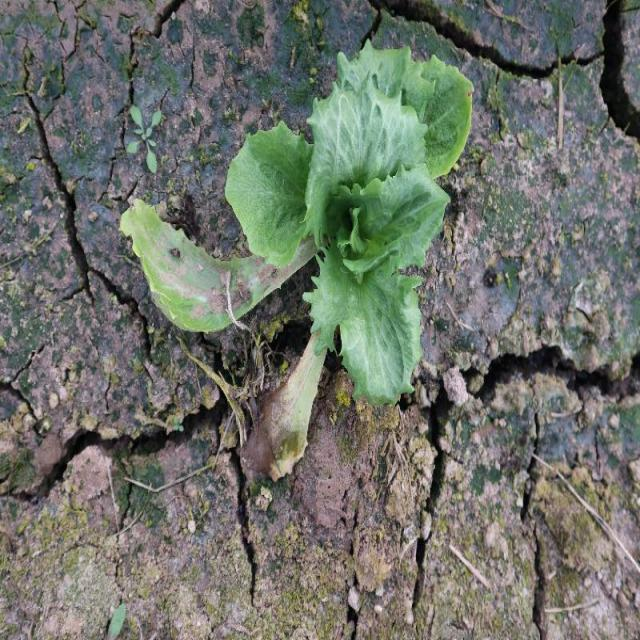crop: (225, 48, 470, 395)
